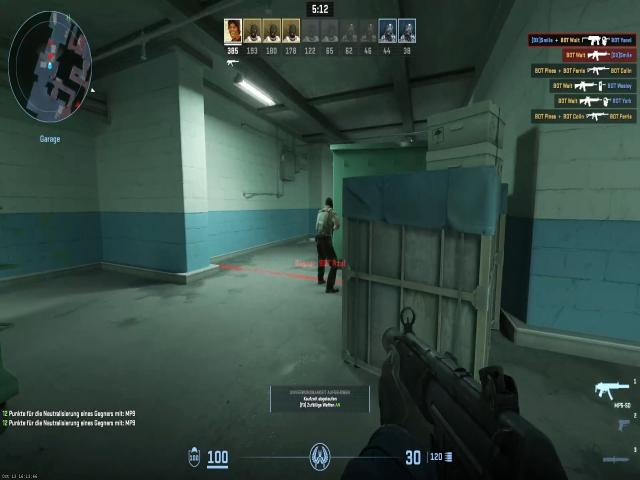T: (314, 194, 338, 246)
T-Head: (320, 197, 334, 210)
